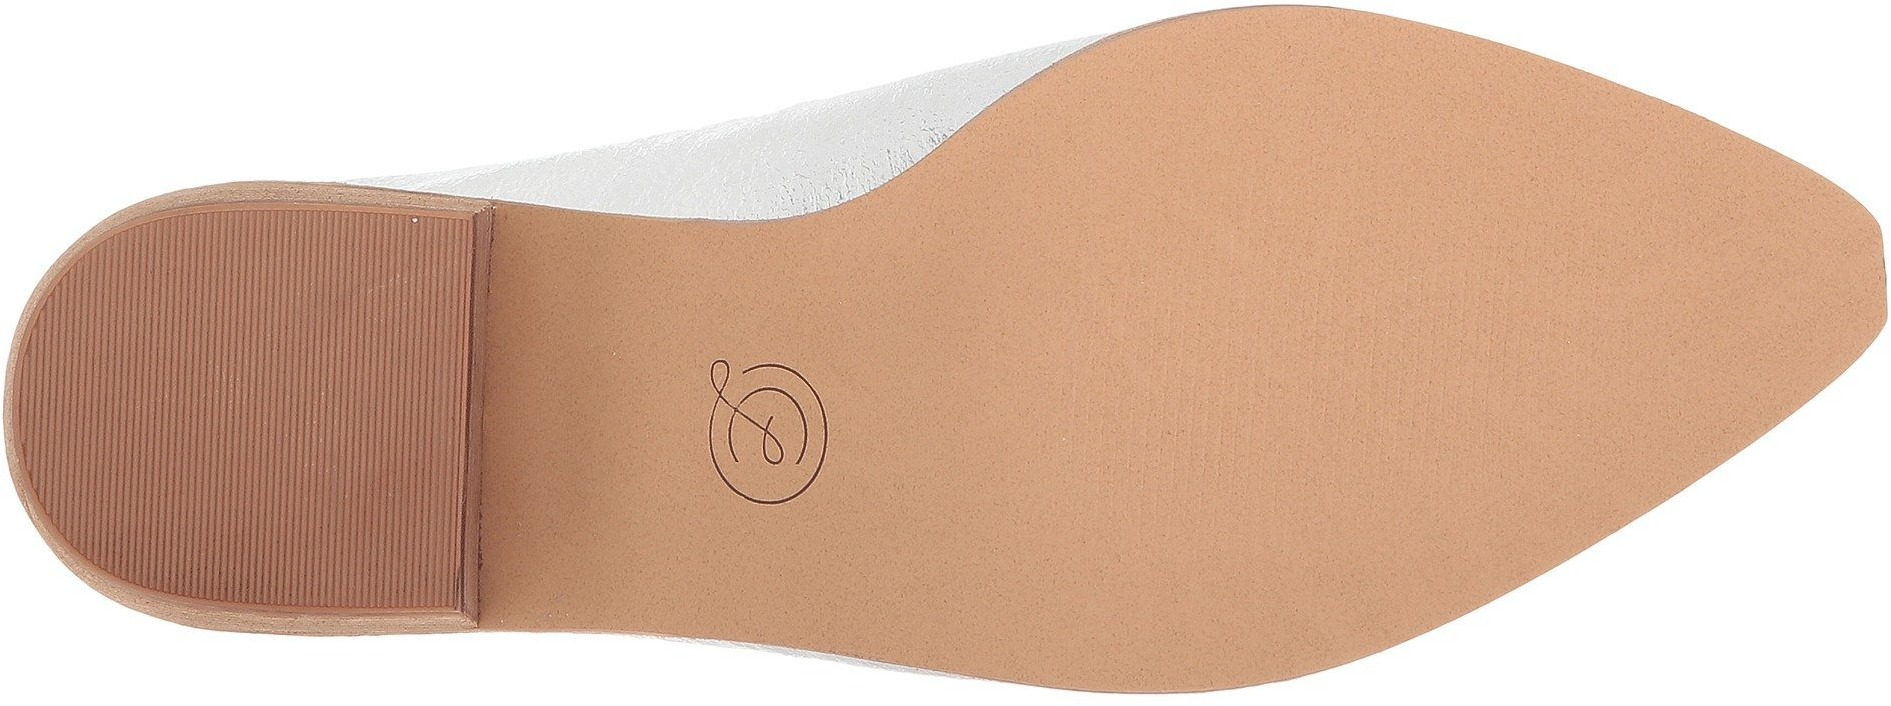exclude: (487, 188, 919, 670)
line: (23, 212, 472, 612), (115, 278, 316, 491), (1132, 246, 1310, 426)
other: (904, 1, 1889, 684), (1072, 246, 1542, 460)
